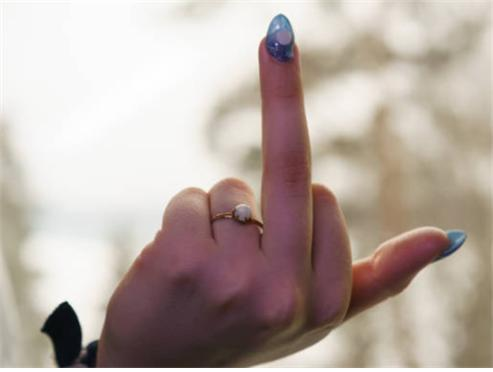insulting_gesture: (90, 10, 467, 372)
